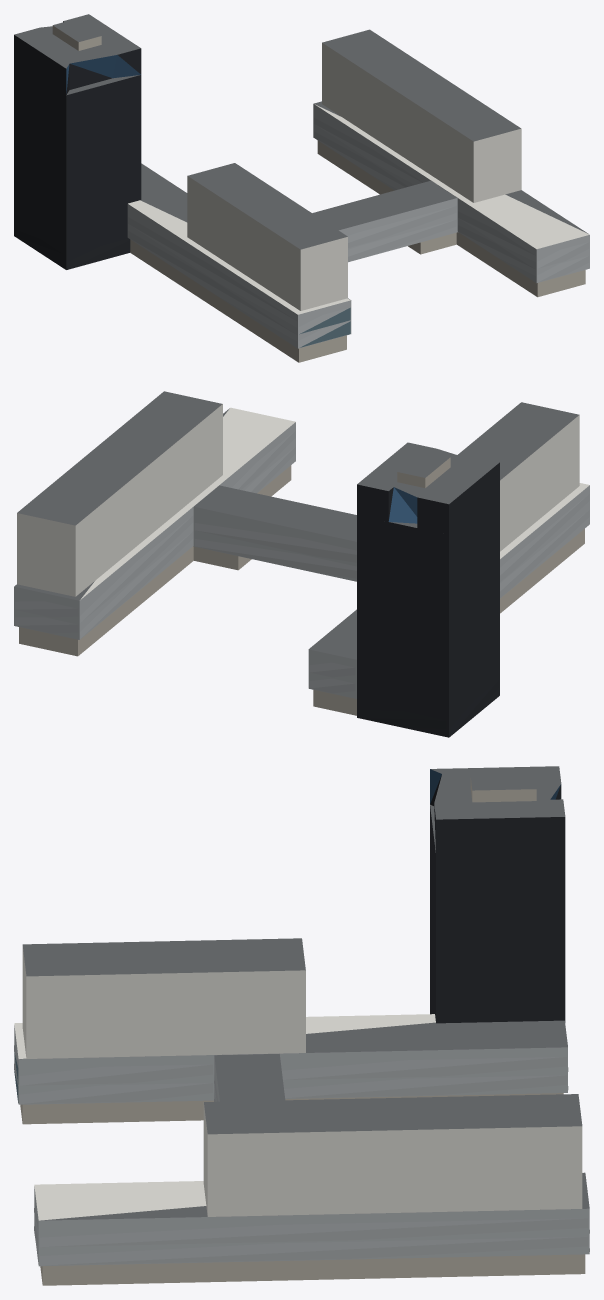
The model's file is gebouw-parnas.lod2.glb.
3 views of the same model, one above another, from view 1: azimuth 30°, elevation 25°; view 2: azimuth 150°, elevation 25°; view 3: azimuth 270°, elevation 25° (orthographic). The views are drawn at different scales.
Visible parts, largest first — view 1: lod2; view 2: lod2; view 3: lod2.
Part boxes in pixels (x1,y1,x2,y2): lod2: (14,14,589,362); lod2: (14,391,589,737); lod2: (14,766,589,1285).
Bounding box in the file's own units: 113 × 59.51 × 110.
